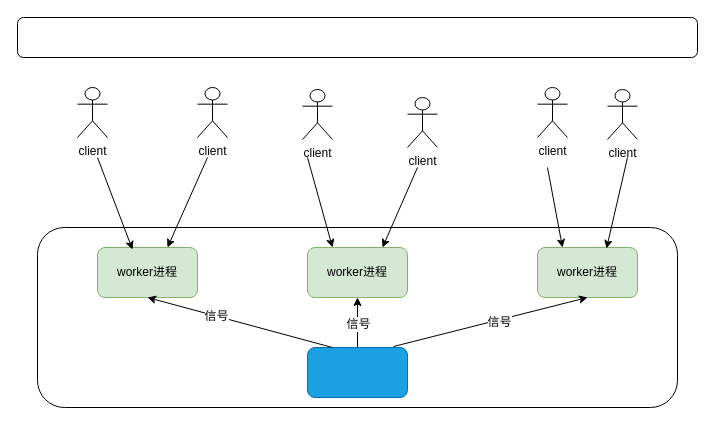
Some shapes in this 715 by 425 pixel diagram are drawn without their labels. Each missing label, with the box of its shape:
master 进程: (306, 346, 408, 398)
nginx基本模型: (16, 16, 698, 58)
